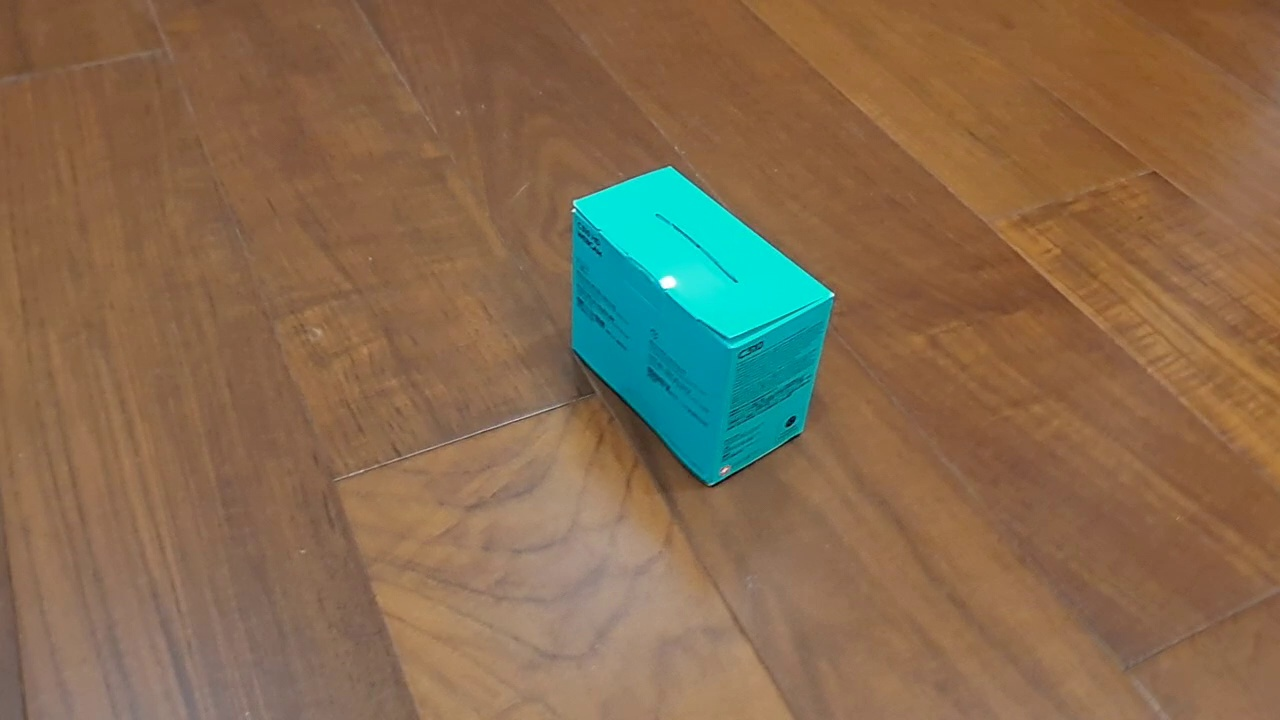webcam: (569, 164, 838, 491)
